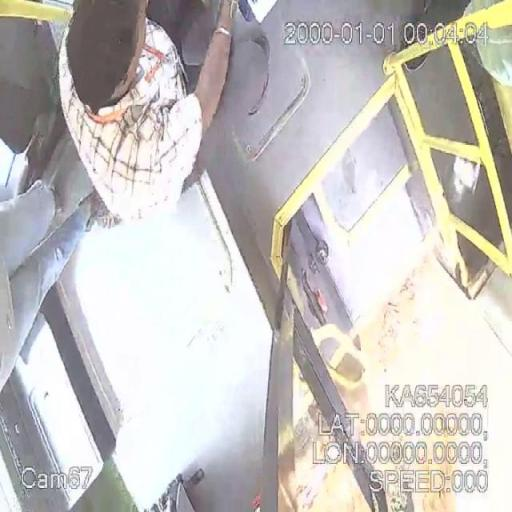persona: (56, 0, 247, 230), (2, 177, 102, 381)
